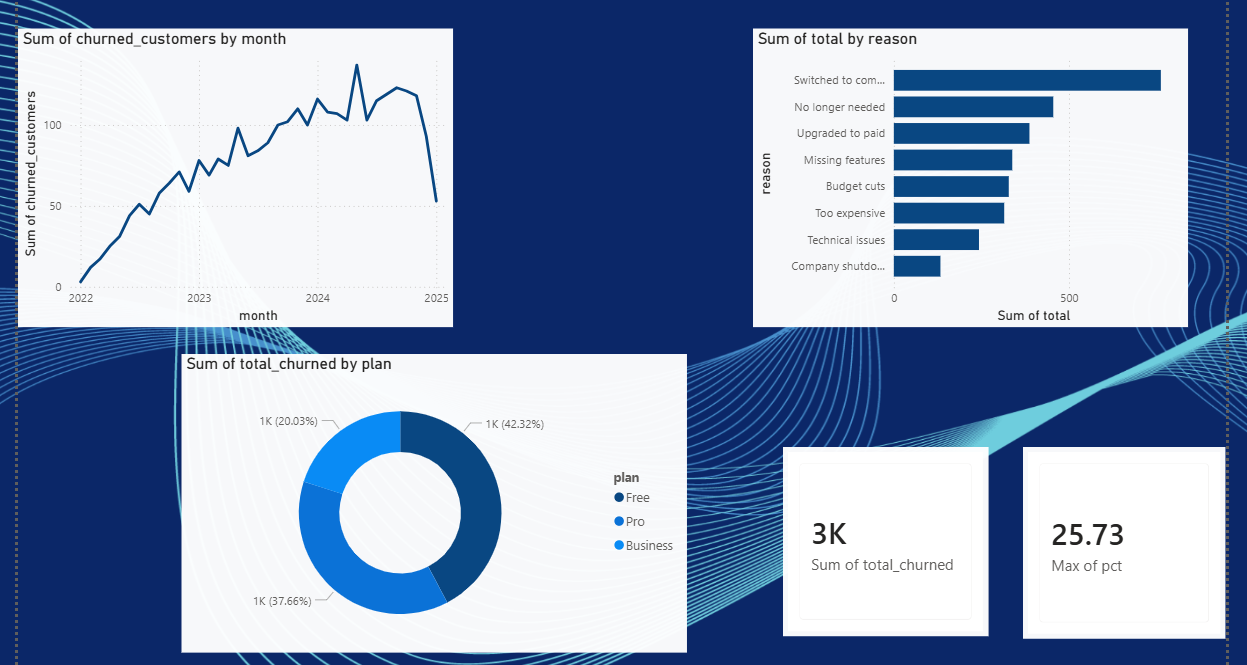

Layout of this report page (visuals, bound fields, positions):
{"tool":"powerbi","page":{"name":"Churn Analysis","canvas":[1280,720],"ordinal":1},"visuals":[{"type":"lineChart","fields":{"Category":["churn_monthly.month"],"Y":["Sum(churn_monthly.churned_customers)"]},"box":[0,42.9,461.3,316.5],"z":0},{"type":"donutChart","fields":{"Category":["churn_by_plan.plan"],"Y":["Sum(churn_by_plan.total_churned)"]},"box":[173.4,388.1,536,316.5],"z":1000},{"type":"barChart","fields":{"Category":["churn_reasons.reason"],"Y":["Sum(churn_reasons.total)"]},"box":[779.4,42.9,461.3,316.5],"z":2000},{"type":"cardVisual","fields":{"Data":["Sum(churn_by_plan.total_churned)"]},"box":[811.2,486.7,217.9,200.4],"z":3000},{"type":"cardVisual","fields":{"Data":["Max(churn_reasons.pct)"]},"box":[1065.7,486.7,214.7,203.6],"z":4000}]}

Visuals, with their boxes in screenshot pixels (x1, y1, x2, y2):
lineChart - churn_monthly.month x Sum(churn_monthly.churned_customers): bbox=(13, 24, 449, 324)
donutChart - churn_by_plan.plan x Sum(churn_by_plan.total_churned): bbox=(177, 351, 684, 650)
barChart - churn_reasons.reason x Sum(churn_reasons.total): bbox=(750, 24, 1186, 324)
cardVisual - Sum(churn_by_plan.total_churned): bbox=(780, 444, 986, 633)
cardVisual - Max(churn_reasons.pct): bbox=(1020, 444, 1223, 636)
